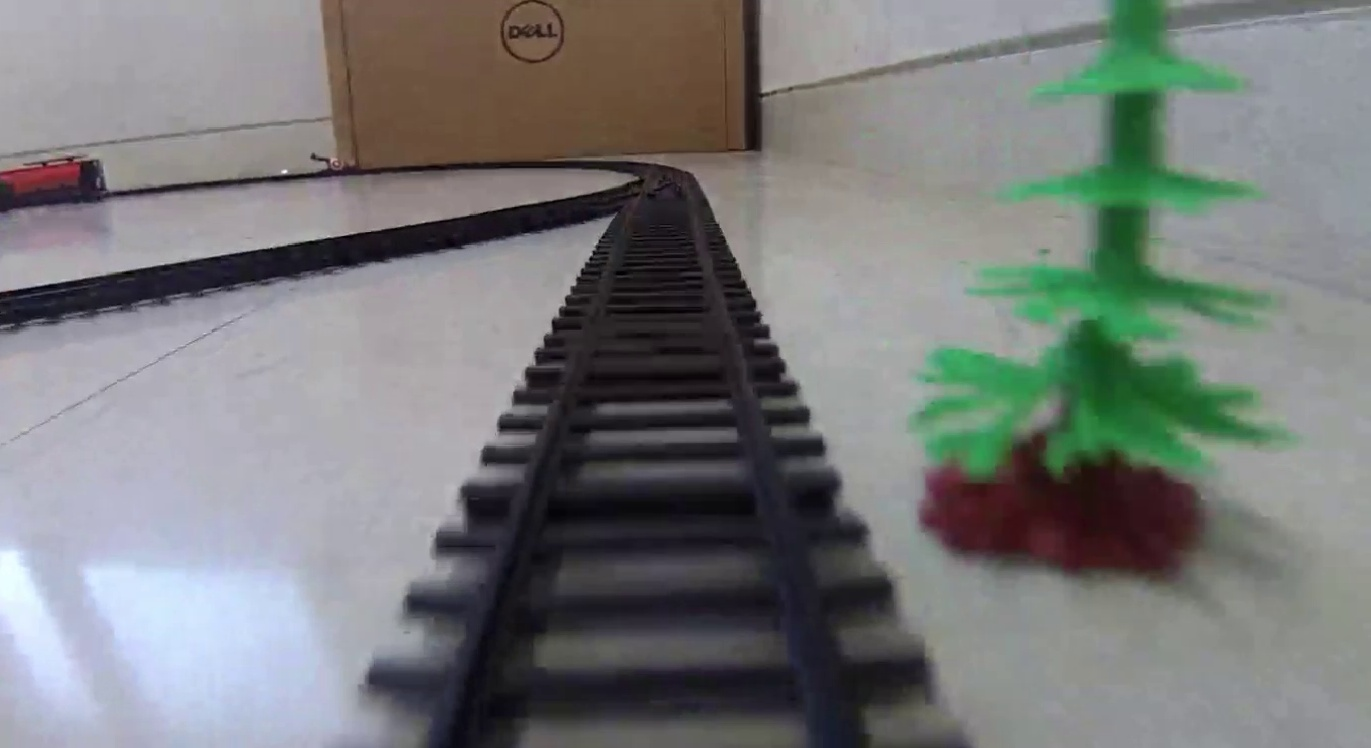tree: (915, 2, 1302, 586)
